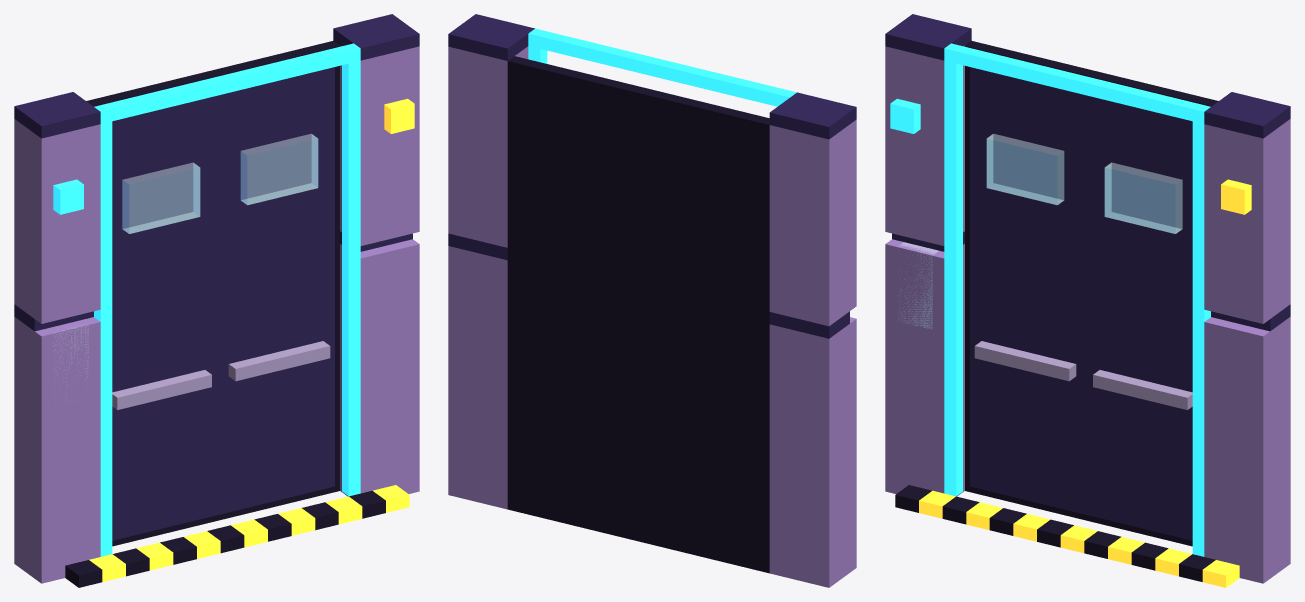
Rendered from airlock.exterior.md.glb.
3 renders of one model, left to right at view 1: azimuth 30°, elevation 25°; view 2: azimuth 150°, elevation 25°; view 3: azimuth 330°, elevation 25°, orthographic.
Parts seen in each view (by area): view 1: airlock.exterior.md; view 2: airlock.exterior.md; view 3: airlock.exterior.md.
Boxes of the visible parts, x1=… form: airlock.exterior.md: x1=14, y1=14, x2=419, y2=587; airlock.exterior.md: x1=448, y1=14, x2=856, y2=587; airlock.exterior.md: x1=885, y1=14, x2=1290, y2=587.
Bounding box in the file's own units: 2 × 2.31 × 0.375.
